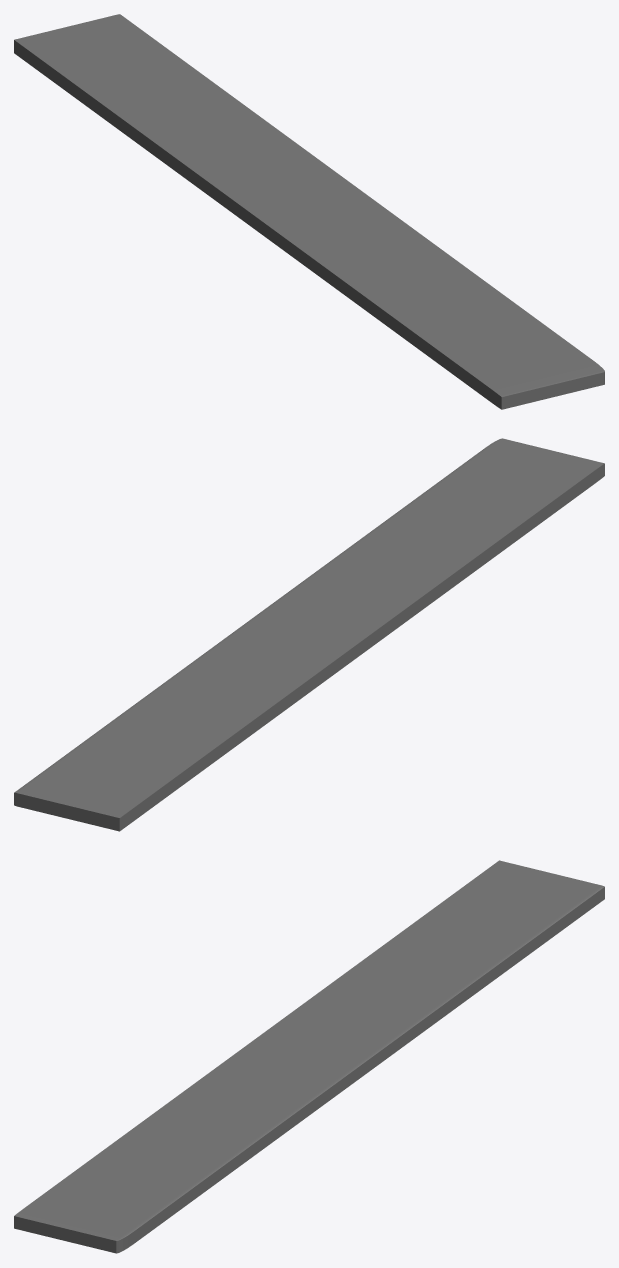
Rendered from RampL.001.fbx.
The picture shows the model from 3 angles, top to bottom: view 1: azimuth 30°, elevation 25°; view 2: azimuth 150°, elevation 25°; view 3: azimuth 330°, elevation 25°; orthographic projection.
Visible parts, largest first — view 1: RampL.001_Baked; view 2: RampL.001_Baked; view 3: RampL.001_Baked.
Part boxes in pixels (<box>): RampL.001_Baked: <box>14,14,604,409</box>; RampL.001_Baked: <box>14,438,604,831</box>; RampL.001_Baked: <box>14,860,604,1253</box>.
Size of the model in its own units: 945 by 114 by 7508.
1 material, 1 textured.
